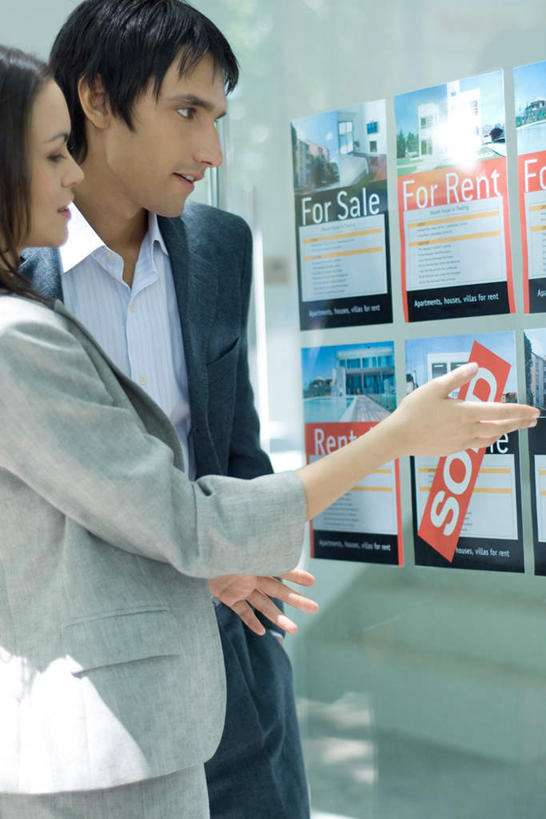no-phone: (389, 359, 544, 459)
